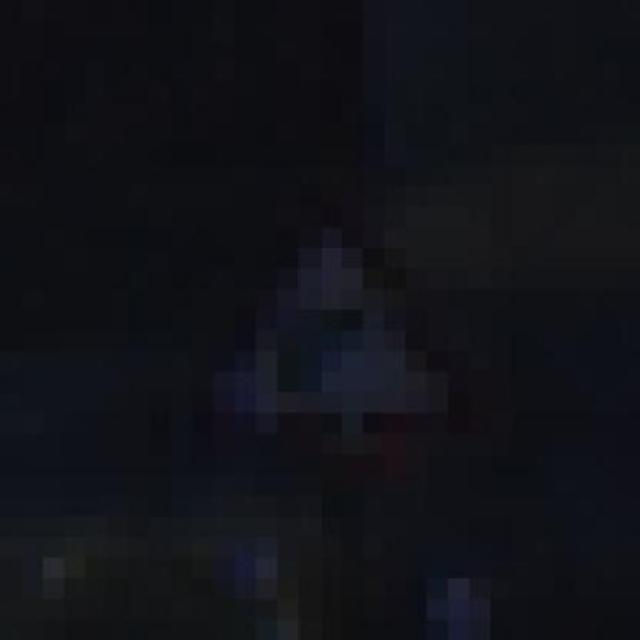Dangerous Rright Curve Ahead: (150, 166, 512, 516)
